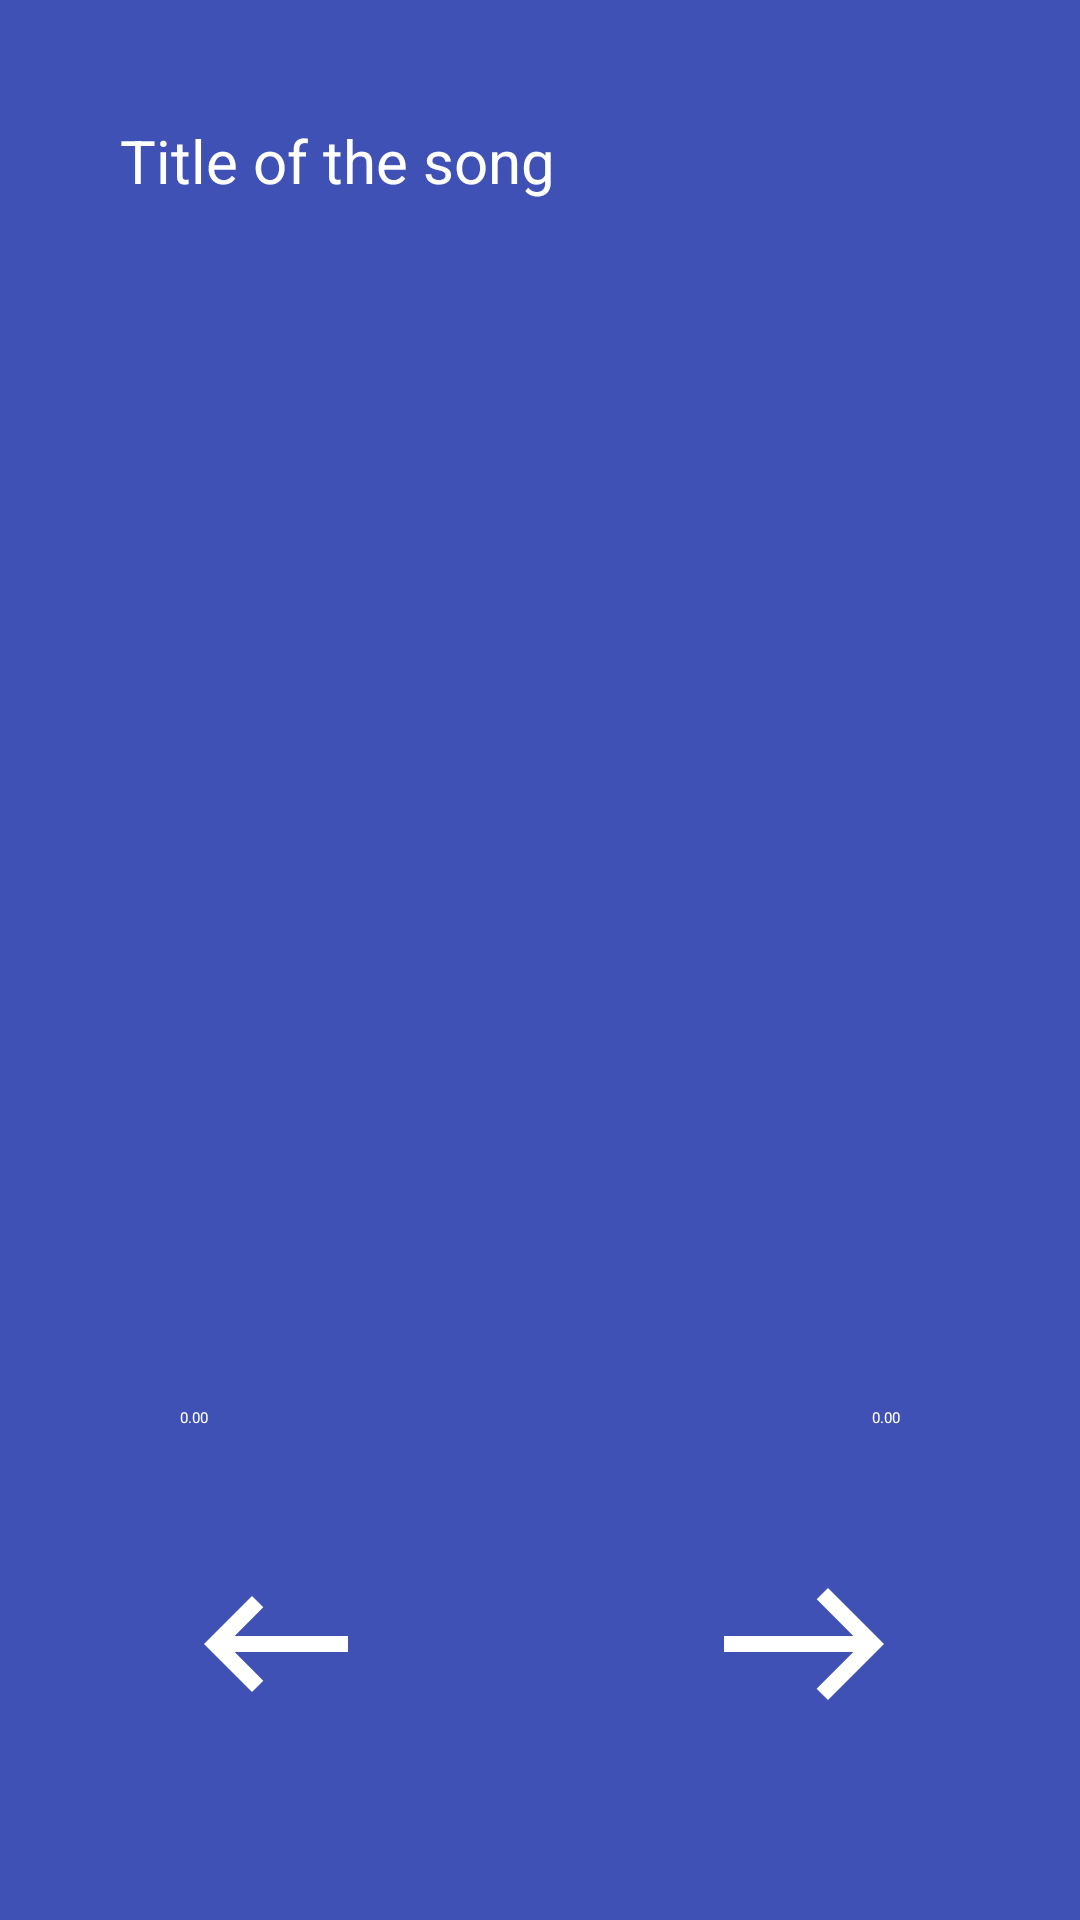

Locate icon controls on the screen. Image size 1080×1920, boxes as box=[x1, y1, x2, y2].
east: box=[724, 1588, 884, 1700]
keyboard backspace: box=[204, 1596, 348, 1692]
